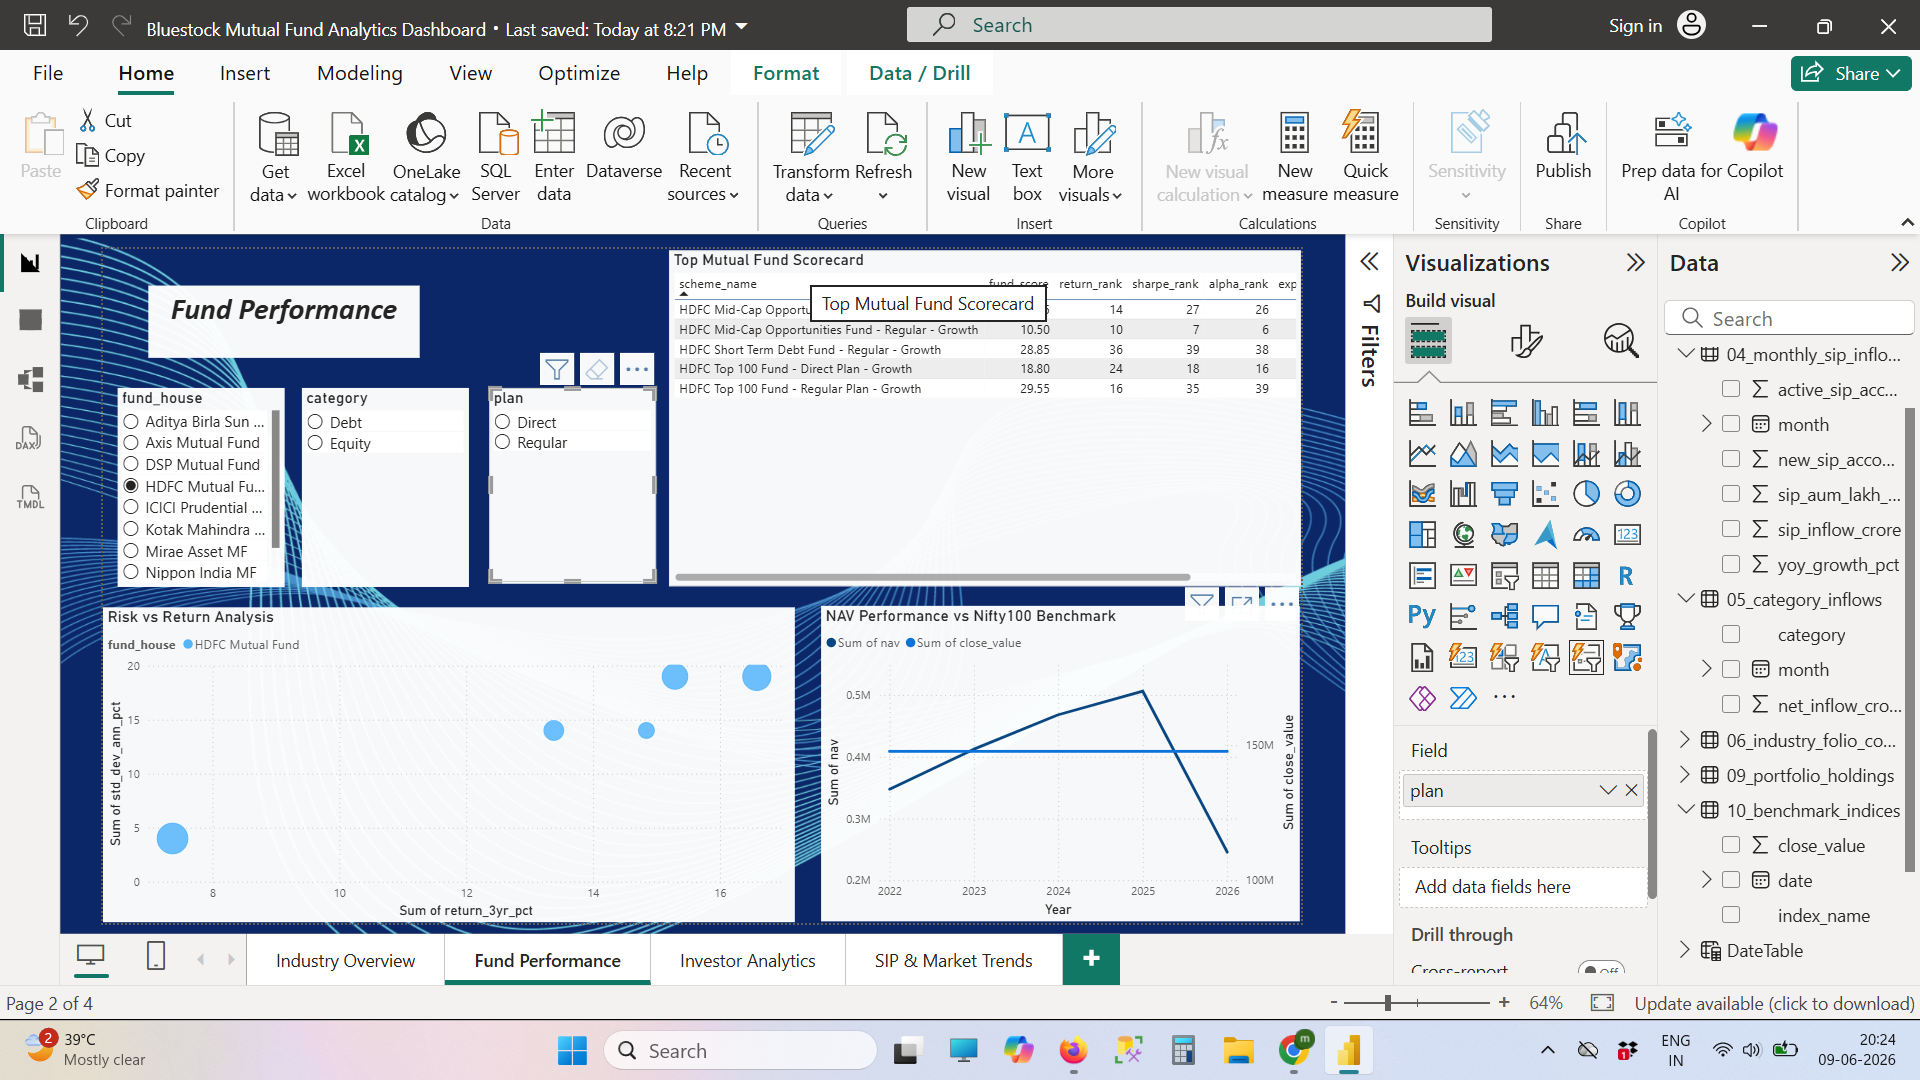

Layout of this report page (visuals, bound fields, positions):
{"tool":"powerbi","page":{"name":"Fund Performance","canvas":[1280,720],"ordinal":1},"visuals":[{"type":"scatterChart","title":"Risk vs Return Analysis","fields":{"X":["Sum(scheme_performance_clean.return_3yr_pct)"],"Y":["Sum(scheme_performance_clean.std_dev_ann_pct)"],"Size":["Sum(scheme_performance_clean.aum_crore)"],"Series":["scheme_performance_clean.fund_house"],"Category":["scheme_performance_clean.scheme_name"]},"box":[0,382.6,739.2,336.7],"z":0},{"type":"tableEx","title":"Top Mutual Fund Scorecard","fields":{"Values":["fund_scorecard.scheme_name","fund_scorecard.fund_score","fund_scorecard.return_rank","fund_scorecard.sharpe_rank","fund_scorecard.alpha_rank","fund_scorecard.expense_rank","fund_scorecard.mdd_rank"]},"box":[605.1,1.8,675.3,358.4],"z":1000},{"type":"lineChart","title":"NAV Performance vs Nifty100 Benchmark","fields":{"Category":["nav_history_clean.date.Variation.Date Hierarchy.Year"],"Y":["Sum(nav_history_clean.nav)"],"Y2":["Sum(10_benchmark_indices.close_value)"]},"box":[767.2,381.8,511.4,336.8],"z":2000},{"type":"listSlicer","fields":{"Values":["01_fund_master.fund_house"]},"box":[16.2,147.7,178.3,212.5],"z":3000},{"type":"listSlicer","fields":{"Values":["01_fund_master.plan"]},"box":[412.4,147.7,178.3,208.9],"z":4000},{"type":"listSlicer","fields":{"Values":["01_fund_master.category"]},"box":[212.5,147.7,178.3,212.5],"z":5000},{"type":"textbox","box":[48.6,39.6,289.9,77.4],"z":6000}]}

Visuals, with their boxes on the page's 1280x720 design canvas (x1, y1, x2, y2). These are canvas units, not pixel positions in the 1920x1080 screenshot, which may show the page scaled, cropped or inside an application window:
"Risk vs Return Analysis" scatterChart: <region>0, 383, 739, 719</region>
"Top Mutual Fund Scorecard" tableEx: <region>605, 2, 1280, 360</region>
"NAV Performance vs Nifty100 Benchmark" lineChart: <region>767, 382, 1279, 719</region>
listSlicer - 01_fund_master.fund_house: <region>16, 148, 194, 360</region>
listSlicer - 01_fund_master.plan: <region>412, 148, 591, 357</region>
listSlicer - 01_fund_master.category: <region>212, 148, 391, 360</region>
textbox: <region>49, 40, 338, 117</region>
